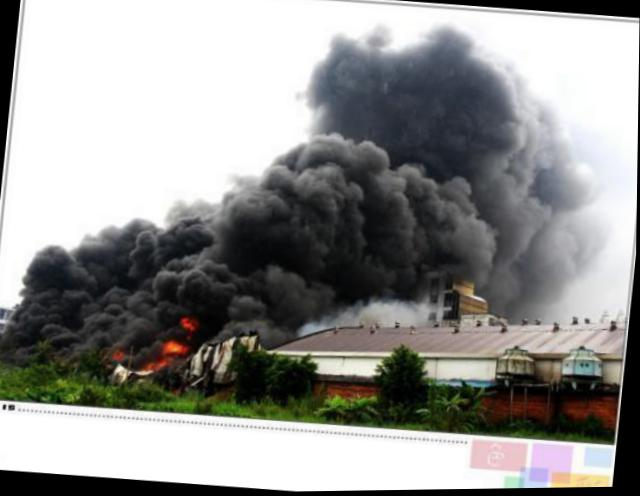smoke: (293, 15, 537, 171), (233, 137, 441, 312), (12, 218, 217, 374), (436, 158, 602, 313), (150, 178, 239, 233), (213, 292, 289, 346)
